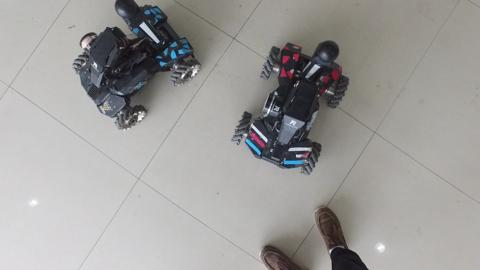chariot: (228, 23, 356, 185), (60, 1, 206, 132)
